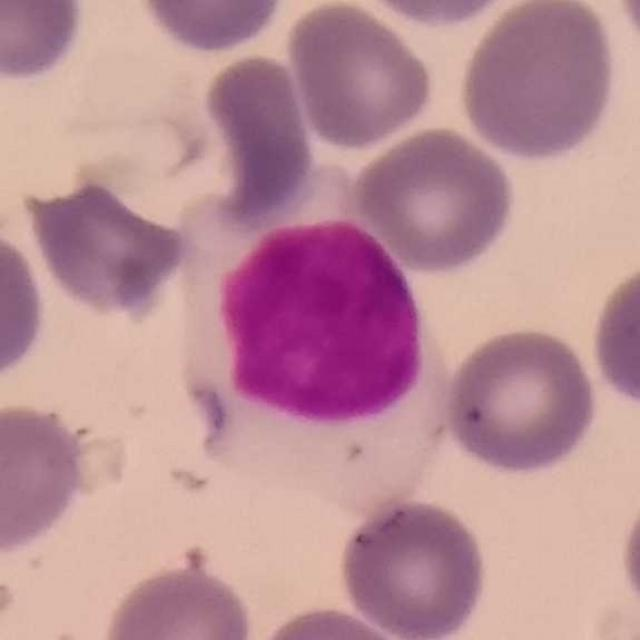Lymphocyte: (172, 167, 452, 512)
RBC: (454, 1, 620, 165), (20, 170, 195, 323), (350, 123, 518, 277), (440, 323, 601, 476), (282, 0, 438, 152), (335, 494, 491, 640), (196, 49, 319, 225), (0, 397, 95, 558), (97, 560, 258, 640), (131, 0, 292, 57), (0, 212, 51, 390), (586, 252, 640, 416), (0, 0, 89, 87), (248, 602, 418, 640), (346, 0, 529, 29), (615, 473, 640, 630), (610, 0, 640, 67)
